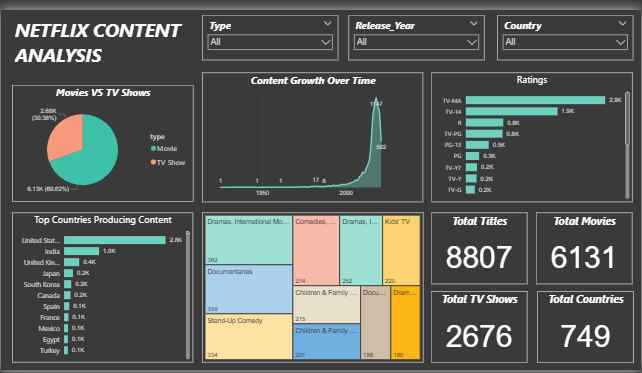

This screenshot's page, from the dashboard's own definition file:
{"tool":"powerbi","page":{"name":"Page 1","canvas":[1280,720],"ordinal":0},"visuals":[{"type":"slicer","fields":{"Values":["netflix_titles_data.type"]},"box":[402.1,11,271.7,90.6],"z":0},{"type":"slicer","fields":{"Values":["netflix_titles_data.release_year"]},"box":[694.3,11,271.7,90.6],"z":1},{"type":"slicer","fields":{"Values":["netflix_titles_data.country"]},"box":[992.1,11,271.7,90.6],"z":2},{"type":"pieChart","title":"Movies VS TV Shows","fields":{"Category":["netflix_titles_data.type"],"Y":["CountNonNull(netflix_titles_data.type)"]},"box":[23.3,150.9,362.3,233.3],"z":3},{"type":"lineChart","title":"Content Growth Over Time","fields":{"Y":["CountNonNull(netflix_titles_data.title)"],"Category":["netflix_titles_data.release_year"]},"box":[402.1,124.9,441.9,259.3],"z":4},{"type":"barChart","title":"Top Countries Producing Content","fields":{"Category":["netflix_titles_data.country"],"Y":["CountNonNull(netflix_titles_data.title)"]},"box":[23.4,405.3,361.8,300.4],"z":5},{"type":"barChart","title":"Ratings","fields":{"Y":["CountNonNull(netflix_titles_data.title)"],"Category":["netflix_titles_data.rating"]},"box":[860.4,124.9,403.4,259.3],"z":6},{"type":"treemap","fields":{"Values":["CountNonNull(netflix_titles_data.title)"],"Details":["netflix_titles_data.listed_in"]},"box":[402,405.3,442.2,300.4],"z":7},{"type":"textbox","box":[23.3,10.5,362.8,125.6],"z":9},{"type":"card","title":"Total Titles","fields":{"Values":["CountNonNull(netflix_titles_data.title)"]},"box":[860.9,405.3,193.2,142.9],"z":10},{"type":"card","title":"Total Movies","fields":{"Values":["CountNonNull(netflix_titles_data.type)"]},"box":[1070.8,405.3,193.2,142.9],"z":12},{"type":"card","title":"Total TV Shows","fields":{"Values":["CountNonNull(netflix_titles_data.type)"]},"box":[860.9,562.8,193.2,142.9],"z":13},{"type":"card","title":"Total Countries","fields":{"Values":["Count(netflix_titles_data.country)"]},"box":[1072,562.8,193.2,142.9],"z":14}]}

Visuals, with their boxes in screenshot pixels (x1, y1, x2, y2):
slicer - netflix_titles_data.type: detection(201, 15, 335, 60)
slicer - netflix_titles_data.release_year: detection(345, 15, 479, 60)
slicer - netflix_titles_data.country: detection(492, 15, 627, 60)
"Movies VS TV Shows" pieChart: detection(13, 85, 192, 200)
"Content Growth Over Time" lineChart: detection(201, 72, 419, 200)
"Top Countries Producing Content" barChart: detection(13, 211, 192, 359)
"Ratings" barChart: detection(427, 72, 627, 200)
treemap - CountNonNull(netflix_titles_data.title) x netflix_titles_data.listed_in: detection(201, 211, 419, 359)
textbox: detection(13, 15, 193, 77)
"Total Titles" card: detection(427, 211, 523, 281)
"Total Movies" card: detection(531, 211, 627, 281)
"Total TV Shows" card: detection(427, 288, 523, 359)
"Total Countries" card: detection(532, 288, 627, 359)
